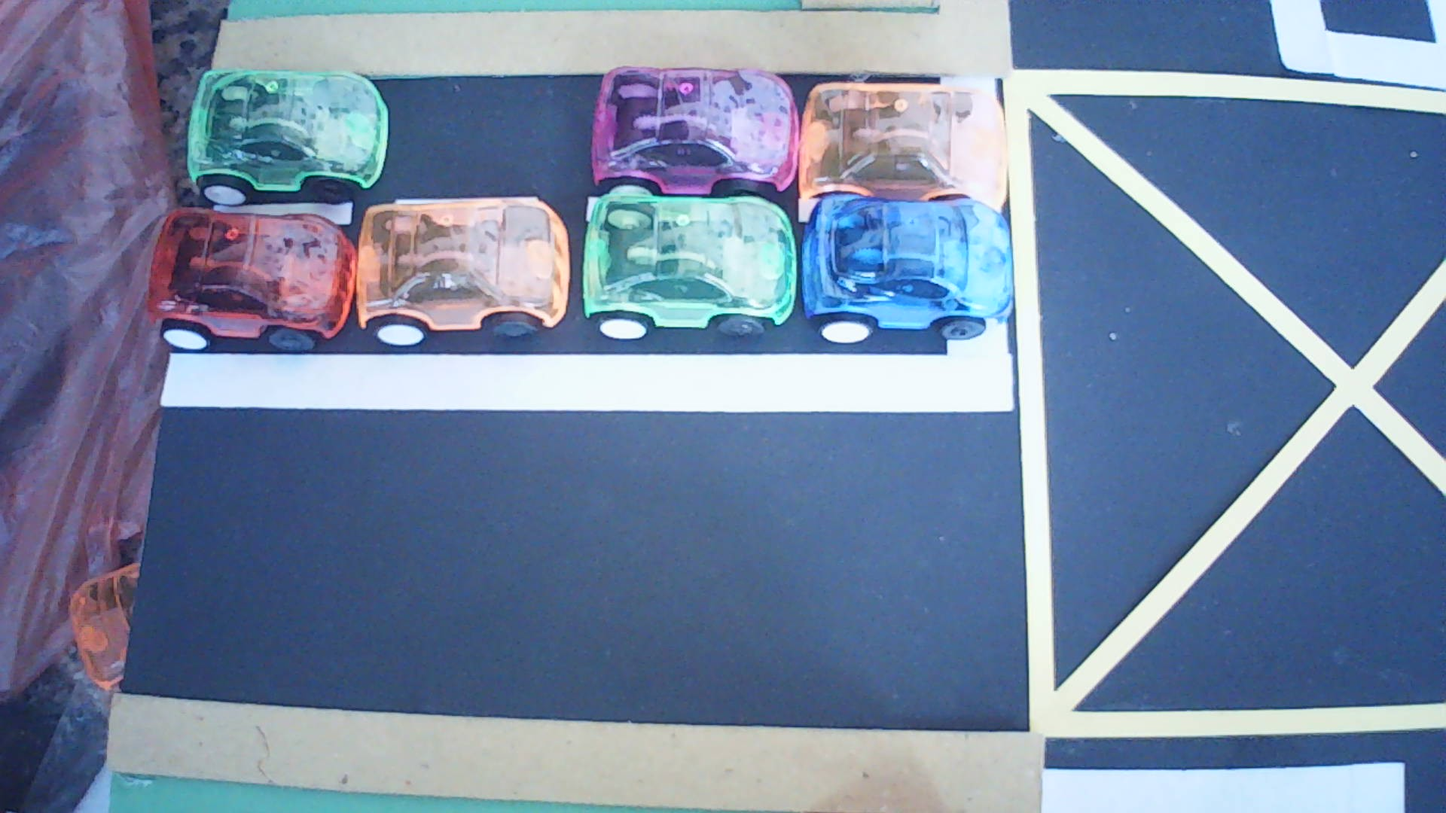Mobil biru: (598, 315, 648, 340)
Mobil hijau: (581, 187, 797, 339), (188, 69, 389, 204)
Mobil merah: (149, 208, 355, 352)
Mobil orange: (356, 197, 569, 346), (798, 82, 1006, 212)
Mobil ungu: (592, 67, 799, 194)
